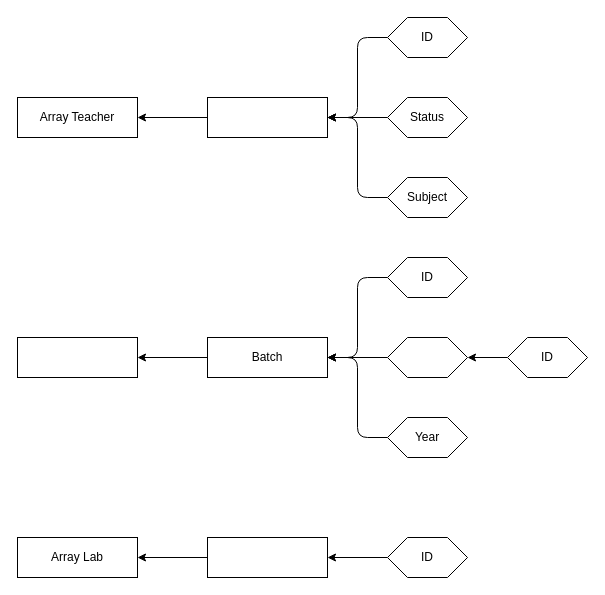
Some shapes in this 605 by 595 pixel diagram are drawn without their labels. The shapes that lost their labels are listed below. From the top down, each one's centre as x and y in pixels, then its label:
At point 267,117: "Teacher".
At point 77,357: "Array Batch".
At point 427,357: "Class".
At point 267,557: "Lab".
